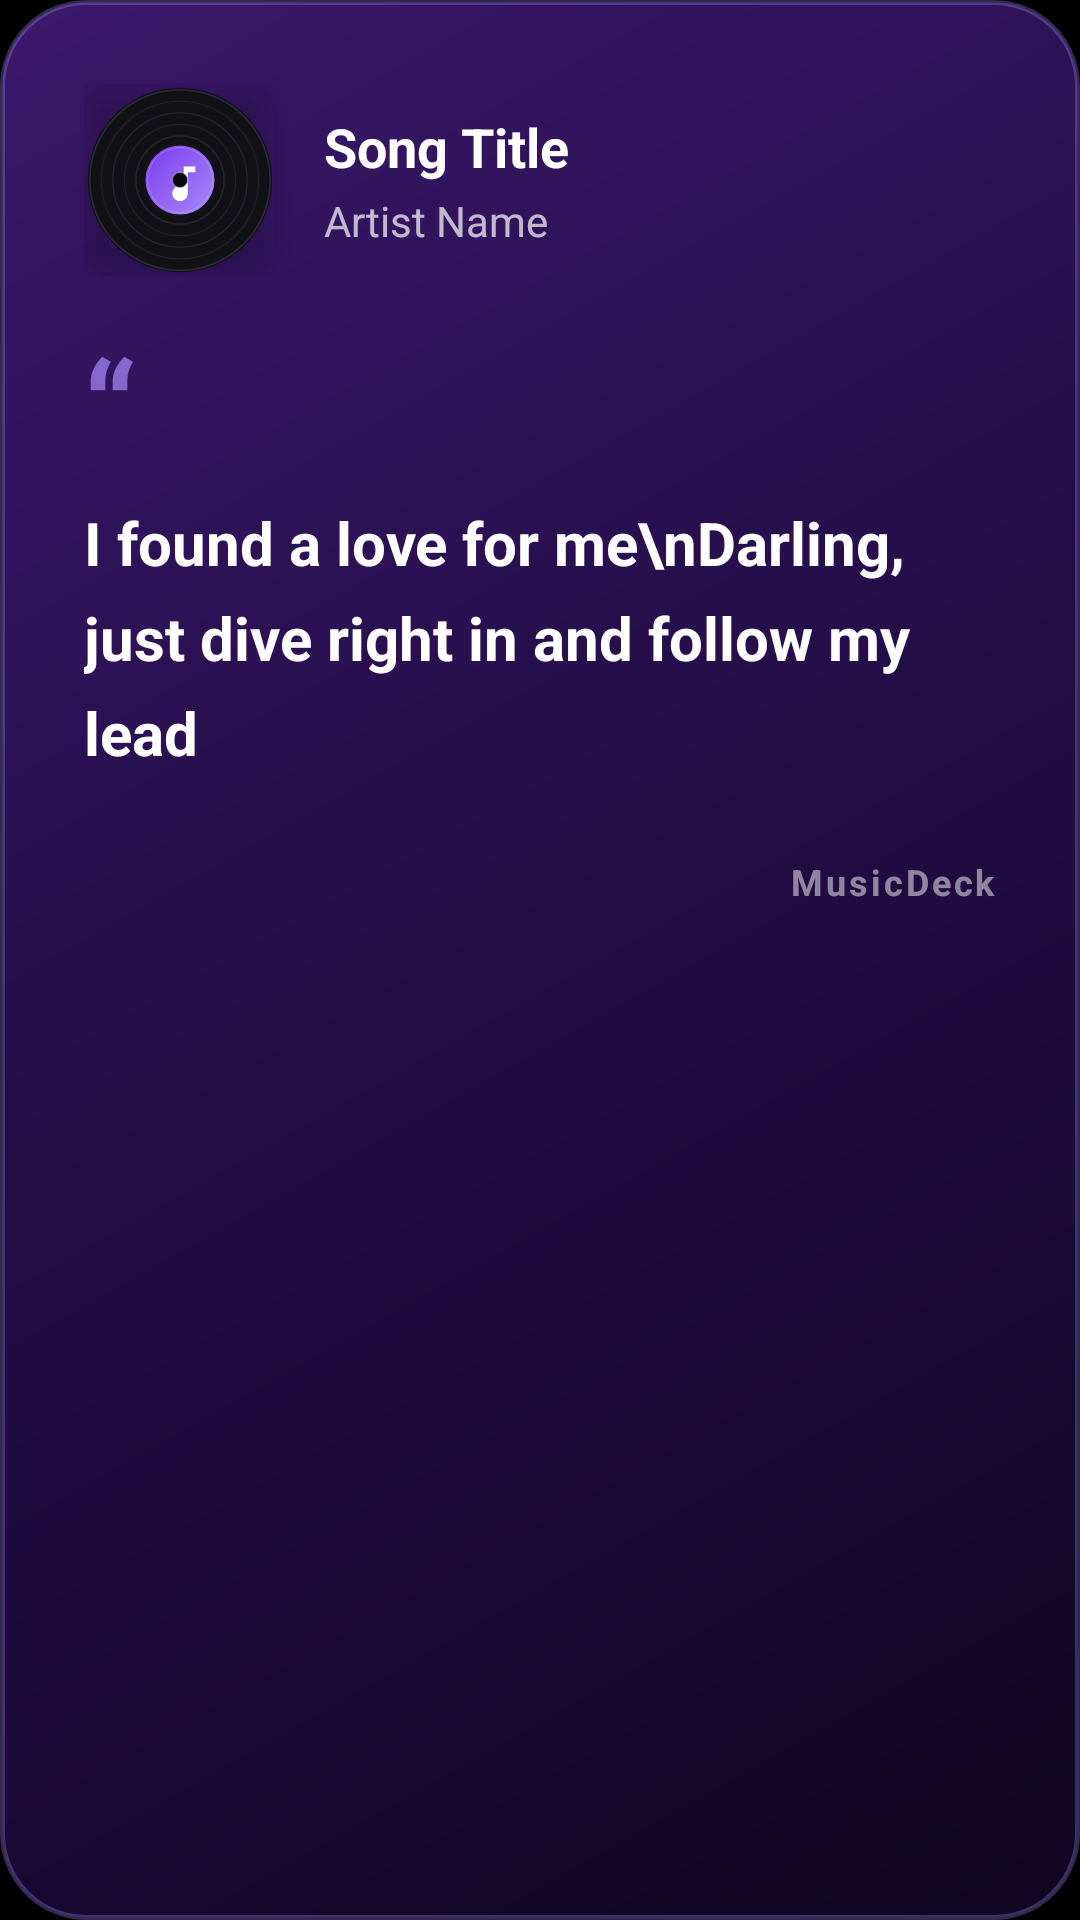

Icon bounding boxes for this 1080×1920 phone screenshot, format (x1, y1, x2, y2):
album art: (88, 88, 272, 272)
